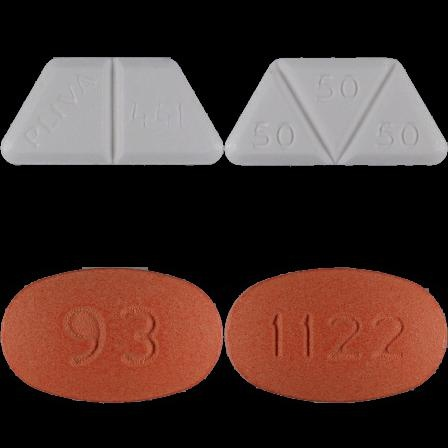54868-1959: (0, 0, 224, 224)
